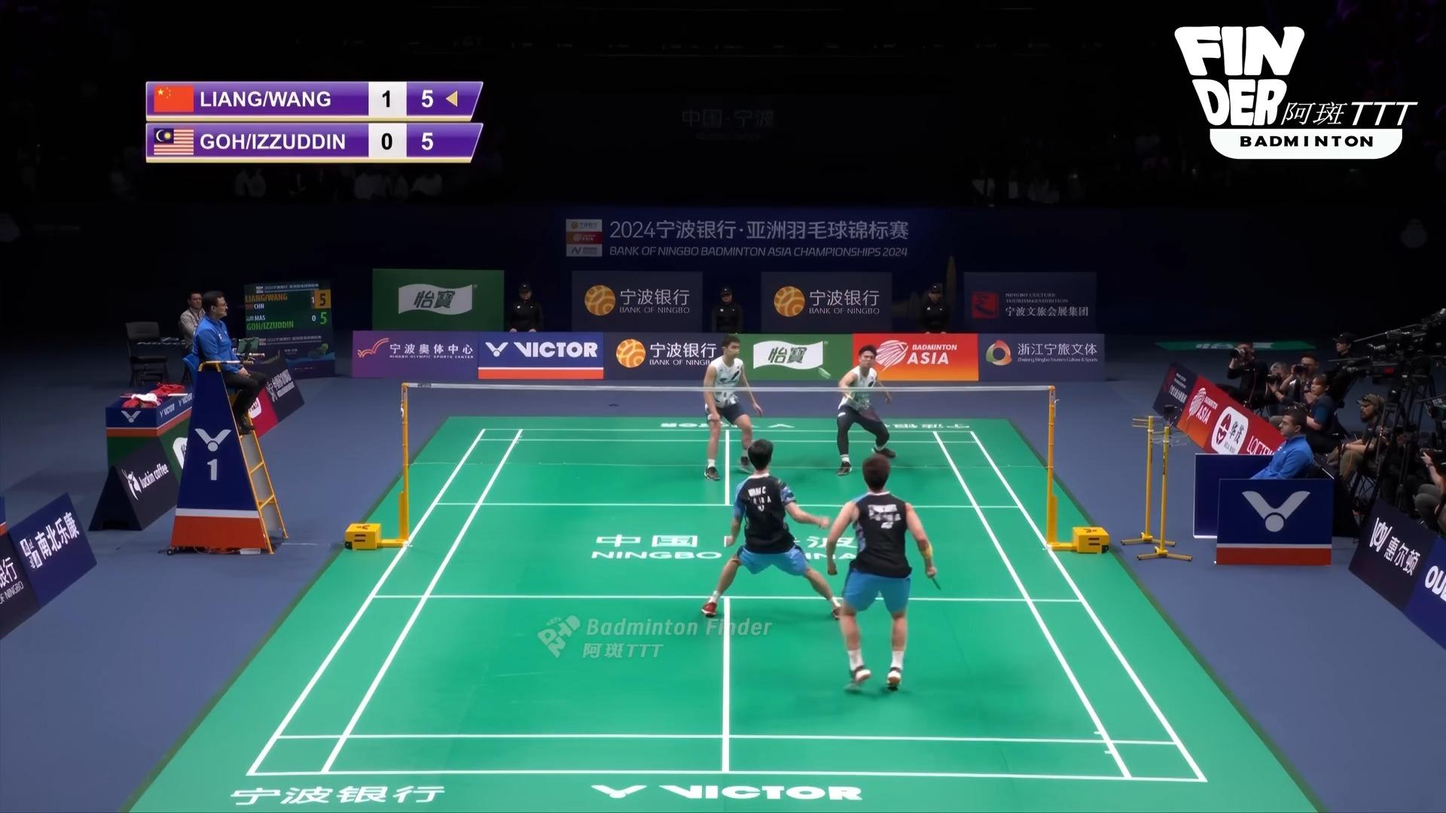player: (826, 455, 938, 690), (701, 440, 843, 618), (702, 335, 764, 480), (835, 344, 895, 476)
